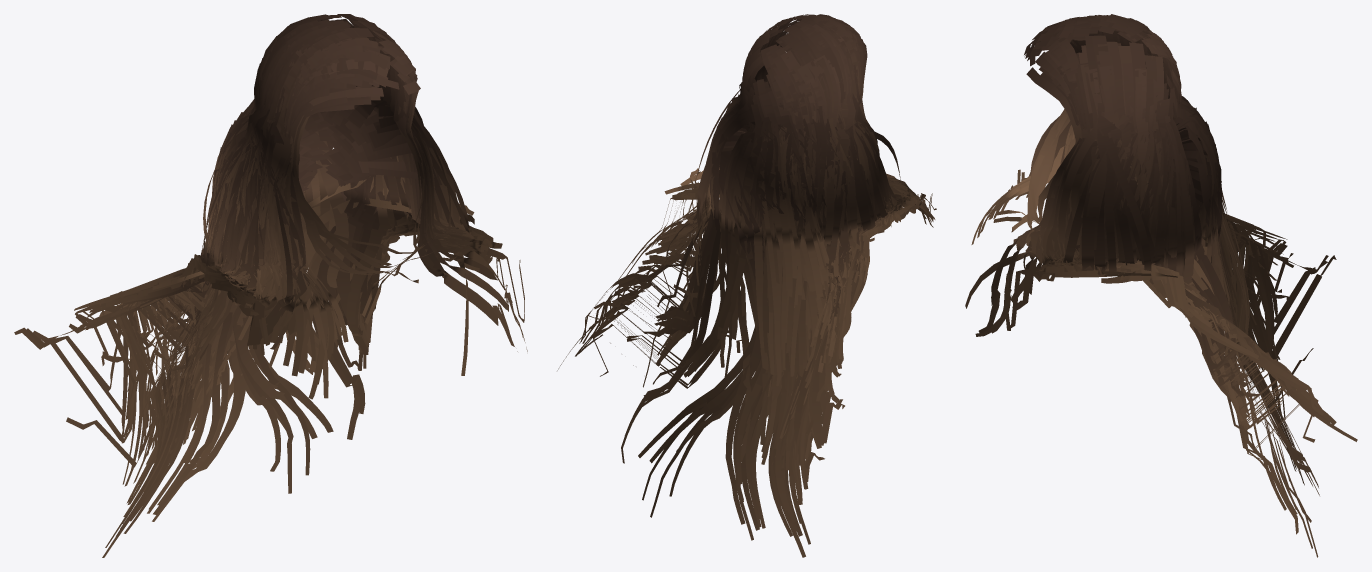
The model's file is hair.glb.
The picture shows the model from 3 angles, left to right: view 1: azimuth 30°, elevation 25°; view 2: azimuth 150°, elevation 25°; view 3: azimuth 270°, elevation 25°; orthographic projection. The views are drawn at different scales.
Visible parts, largest first — view 1: Hair; view 2: Hair; view 3: Hair.
Part boxes in pixels (box(x1,y1,x2,y2)): Hair: box(14, 14, 527, 557); Hair: box(557, 14, 936, 557); Hair: box(965, 14, 1357, 557).
Bounding box in the file's own units: 0.499 × 0.7644 × 0.5313.
